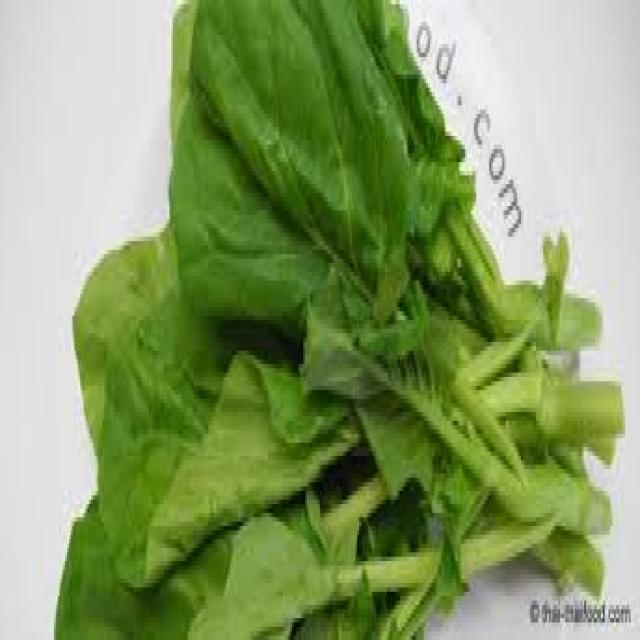collard: (56, 4, 623, 640)
